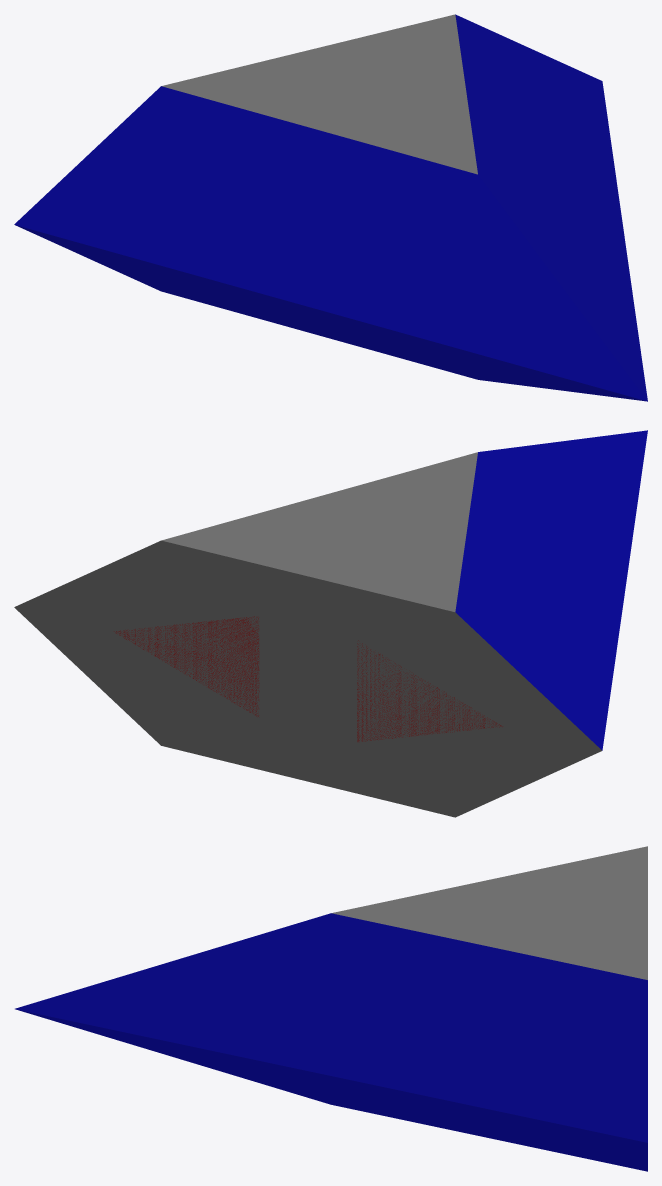
Rendered from viper.obj.
3 renders of one model, top to bottom at view 1: azimuth 30°, elevation 25°; view 2: azimuth 150°, elevation 25°; view 3: azimuth 270°, elevation 25°, orthographic. The views are drawn at different scales.
Parts seen in each view (by area): view 1: viper; view 2: viper; view 3: viper.
Part boxes in pixels (<box>): viper: <box>14,14,647,401</box>; viper: <box>14,430,647,817</box>; viper: <box>15,846,647,1171</box>.
Size of the model in its own units: 96 by 32 by 96.
